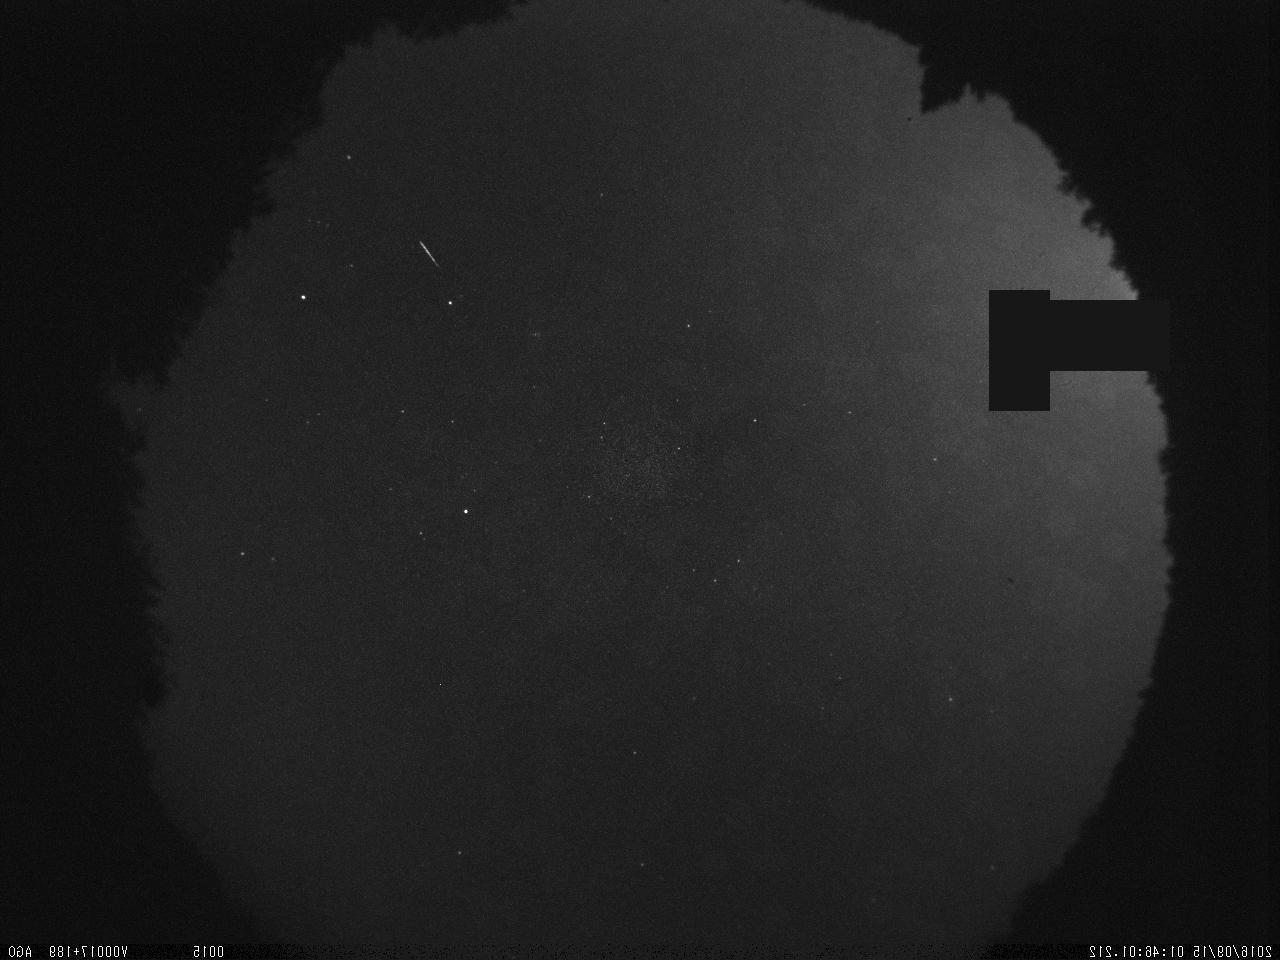meteor: (410, 240, 440, 274)
